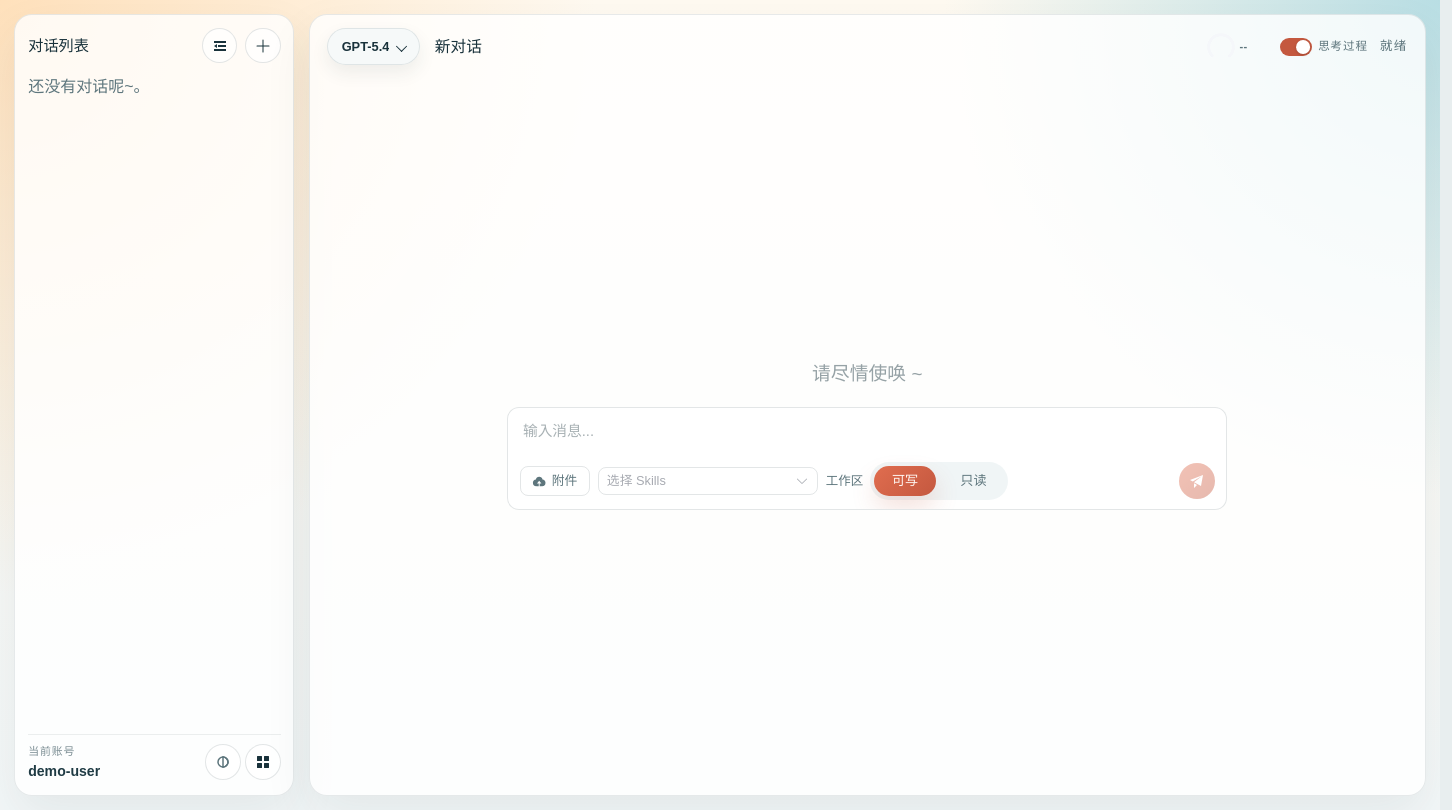
Test: ChatView › refreshes conversations after send and keeps the returned conversation selected
In the text box with placeholder "输入消息...": (867, 432) 523,420 -> 1212,444, type "hello"
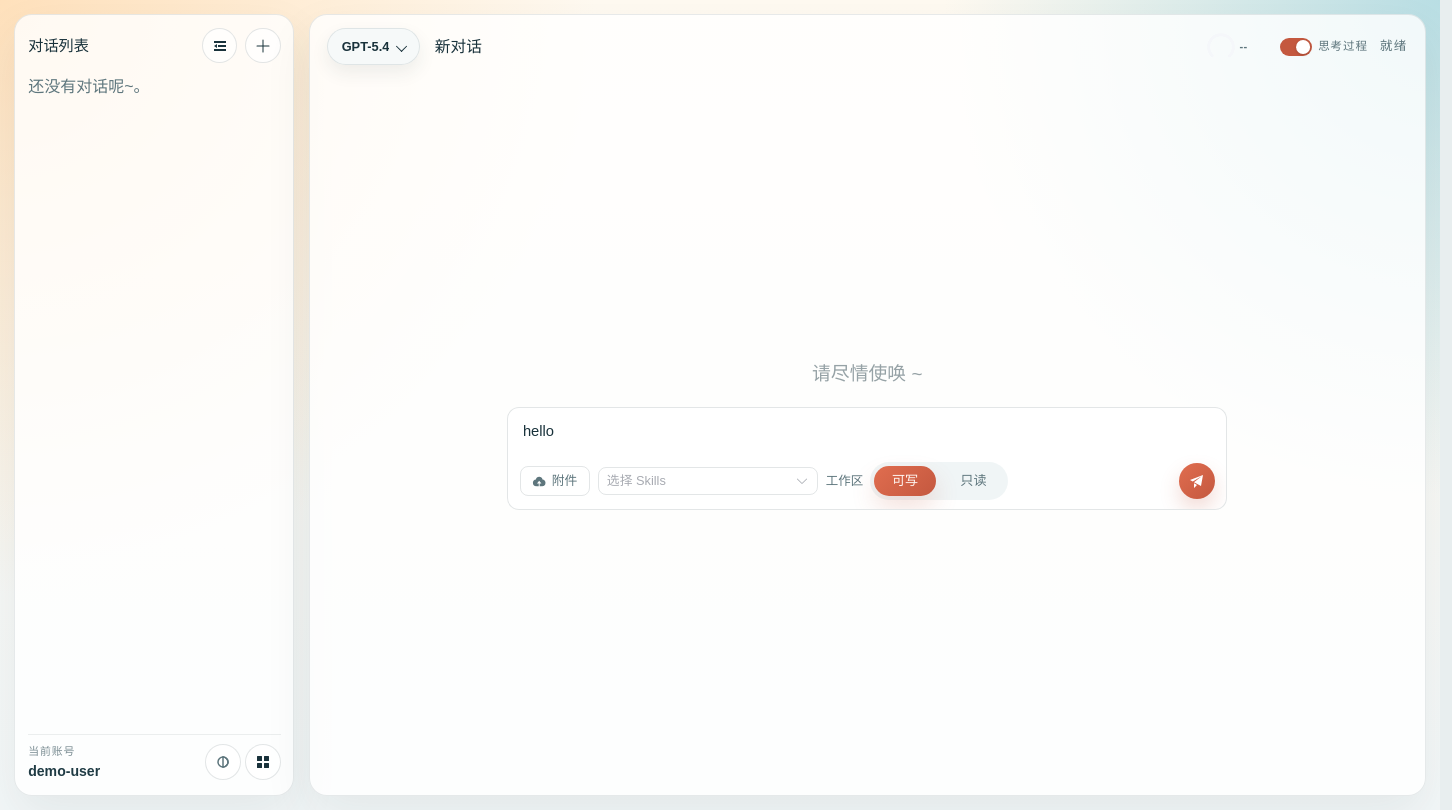
Submit the form, box 507,407 -> 1227,510
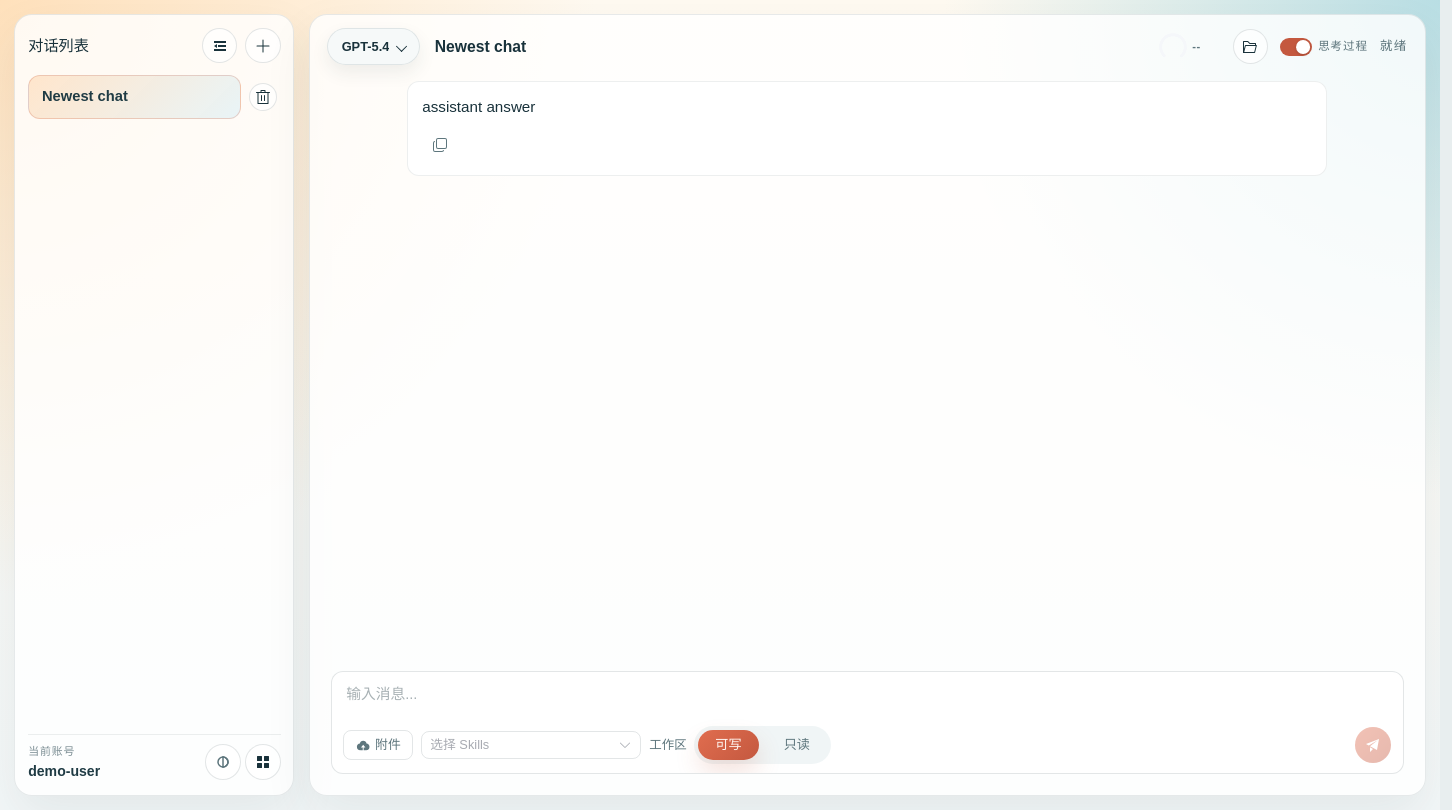
Expected: the text "Newest chat" is shown, 42,88 -> 128,104
Expected: the button with class "conversation-card" reads "Newest chat", 28,75 -> 241,120
